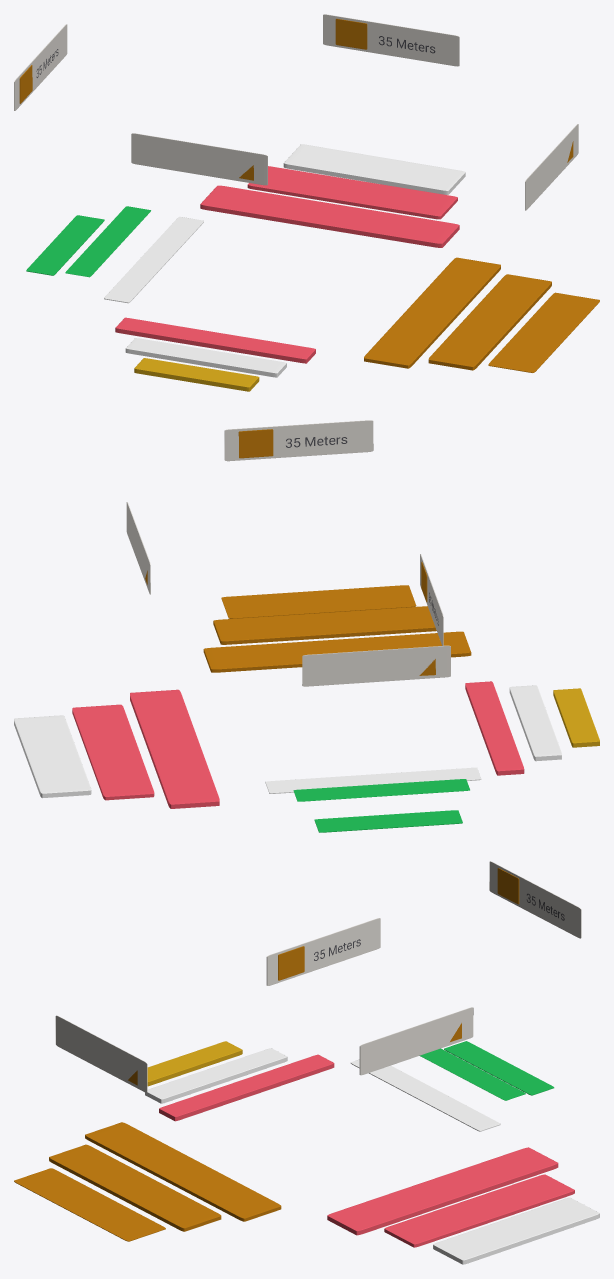
File: jump_domi14.gltf
The picture shows the model from 3 angles, top to bottom: view 1: azimuth 30°, elevation 25°; view 2: azimuth 150°, elevation 25°; view 3: azimuth 270°, elevation 25°; orthographic projection. The views are drawn at different scales.
Parts seen in each view (by area): view 1: Cube right (×7), Cube top (×2), Cube bottom (×3), Cube top center, Cube left (×3), Cube right center; view 2: Cube right (×7), Cube top (×2), Cube bottom (×3), Cube left (×3), Cube top center, Cube right center; view 3: Cube right (×8), Cube top (×2), Cube bottom (×3), Cube top center, Cube right center, Cube left (×3).
Part boxes in pixels (<box>): Cube right (×7): <box>14,14,599,372</box>; Cube top (×2): <box>247,144,465,219</box>; Cube bottom (×3): <box>115,317,315,391</box>; Cube top center: <box>200,185,459,247</box>; Cube left (×3): <box>26,206,203,303</box>; Cube right center: <box>364,257,500,368</box>; Cube right (×7): <box>126,420,450,686</box>; Cube top (×2): <box>14,704,154,800</box>; Cube bottom (×3): <box>465,681,599,775</box>; Cube left (×3): <box>265,767,481,832</box>; Cube top center: <box>130,689,219,808</box>; Cube right center: <box>203,631,471,672</box>; Cube right (×8): <box>14,861,581,1241</box>; Cube top (×2): <box>384,1174,599,1264</box>; Cube bottom (×3): <box>145,1041,334,1121</box>; Cube top center: <box>327,1147,558,1235</box>; Cube right center: <box>85,1122,281,1221</box>; Cube left (×3): <box>350,1041,554,1131</box>.
Size of the model in its own units: 12.44 by 5.08 by 14.09.
